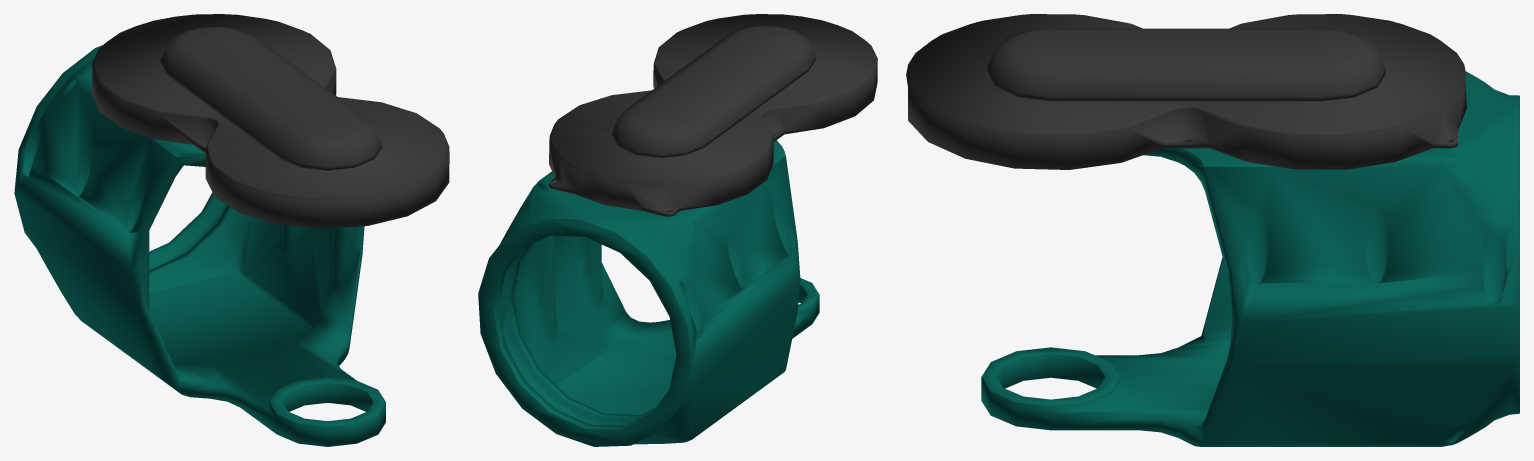
Rendered from 2h09070_arml_t67.obj.
The picture shows the model from 3 angles, left to right: view 1: azimuth 30°, elevation 25°; view 2: azimuth 150°, elevation 25°; view 3: azimuth 270°, elevation 25°; orthographic projection. The views are drawn at different scales.
Bounding box in the file's own units: 0.125 × 0.152 × 0.2382.
